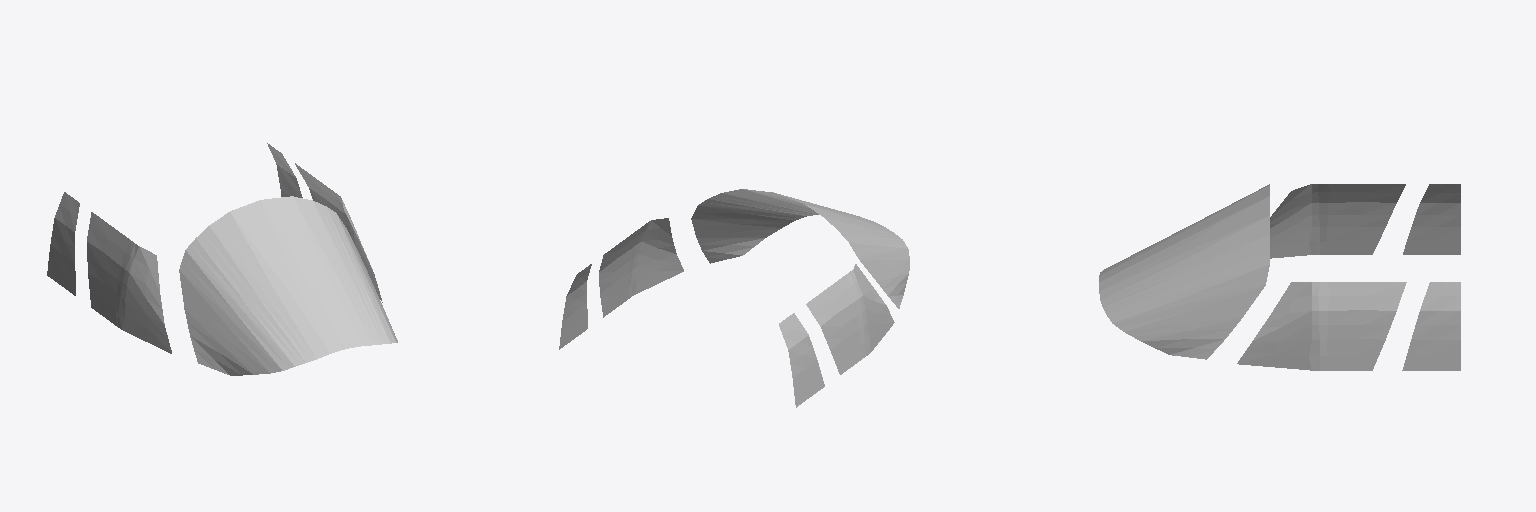
File: glass.obj
3 renders of one model, left to right at view 1: azimuth 30°, elevation 25°; view 2: azimuth 150°, elevation 25°; view 3: azimuth 270°, elevation 25°, orthographic.
Bounding box in the file's own units: 1.43 × 0.6936 × 1.9.